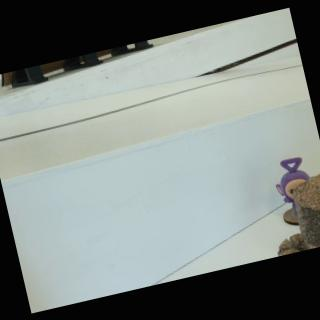teletubby: (276, 157, 309, 213)
